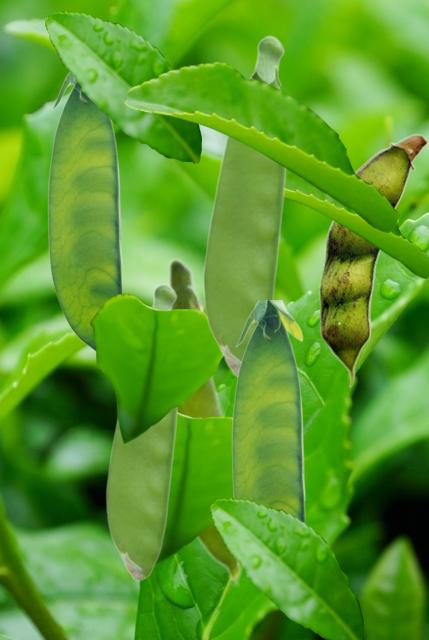pea: (202, 34, 286, 377), (319, 133, 427, 387), (164, 256, 243, 586), (105, 282, 178, 580), (47, 72, 121, 350), (231, 300, 304, 521)
